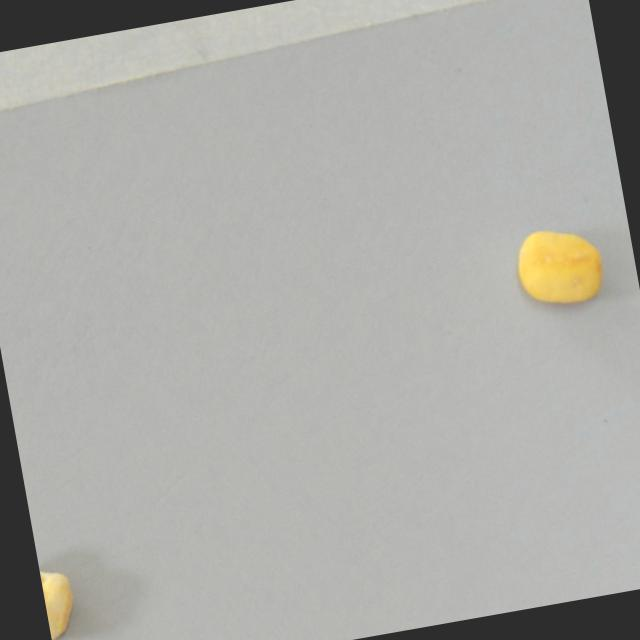dañado: (491, 204, 621, 331), (33, 528, 97, 640)
